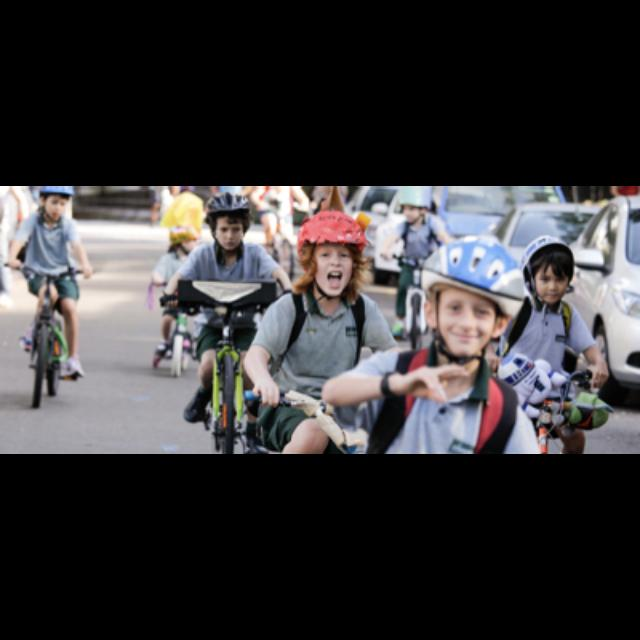With Helmet: (296, 205, 372, 301), (517, 230, 579, 306), (204, 192, 256, 250)
